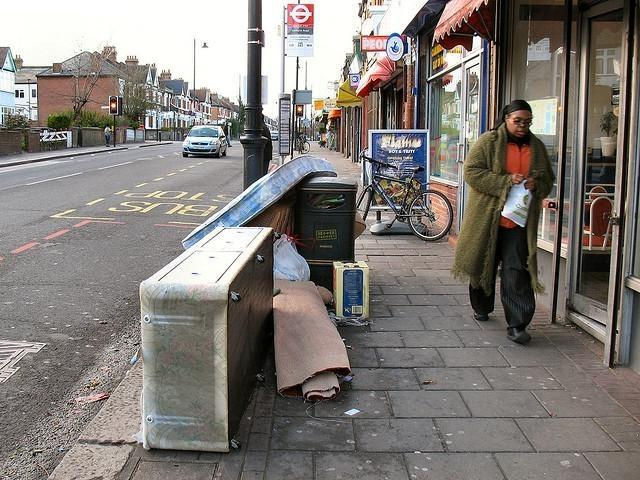bicycle: (358, 148, 455, 236), (298, 140, 310, 154)
car: (182, 124, 230, 160), (270, 131, 278, 141)
